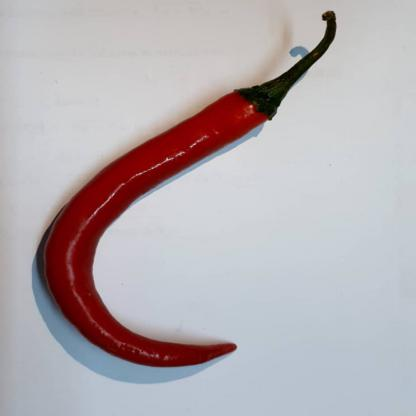chili: (37, 11, 338, 368)
